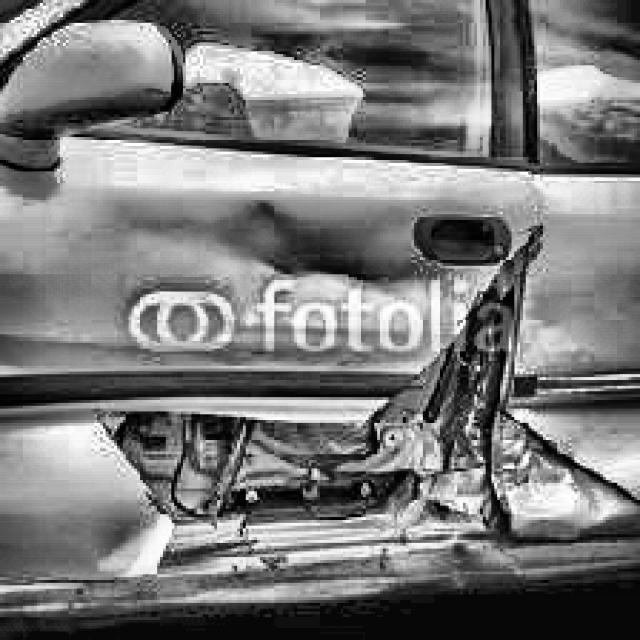door_dent: (100, 220, 640, 603)
